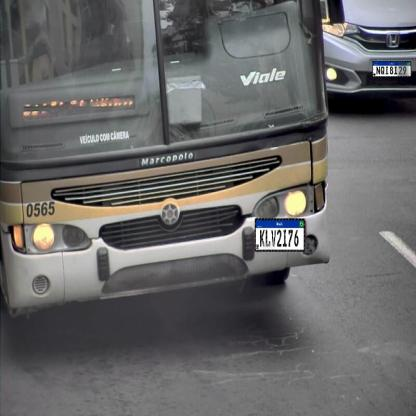PlacaM: (255, 218, 305, 252), (372, 61, 412, 77)
